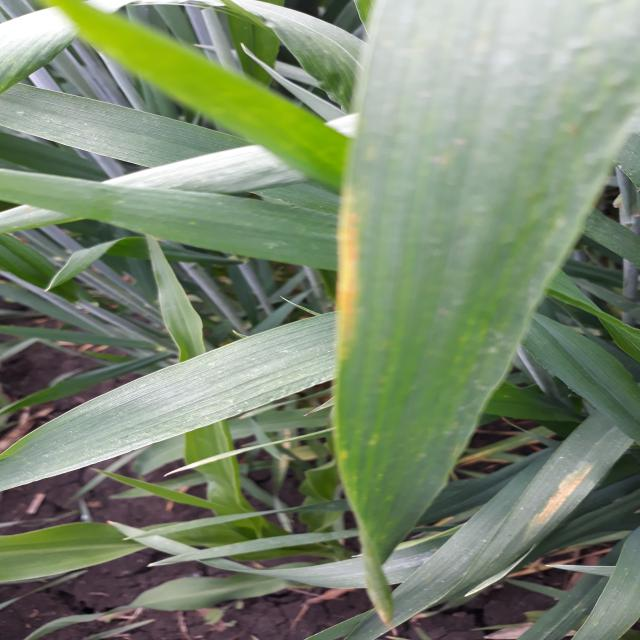yellow_rust: (300, 71, 554, 487), (427, 459, 609, 550), (286, 564, 444, 638)
